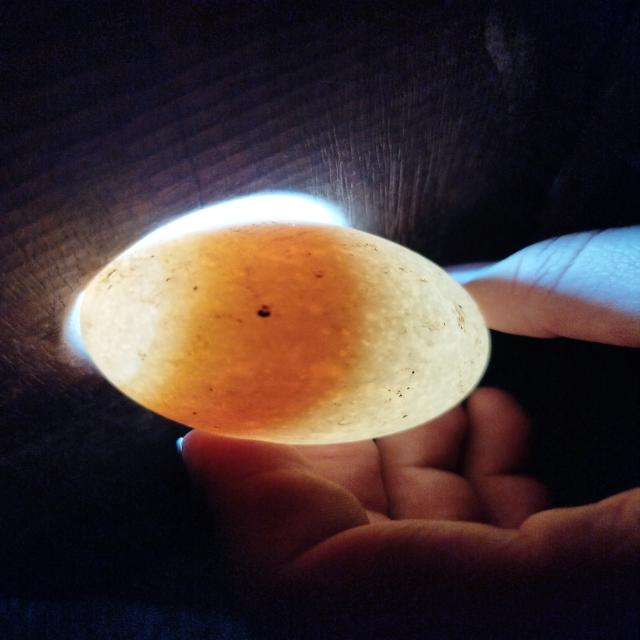Camara de Ar: (80, 251, 162, 384)
